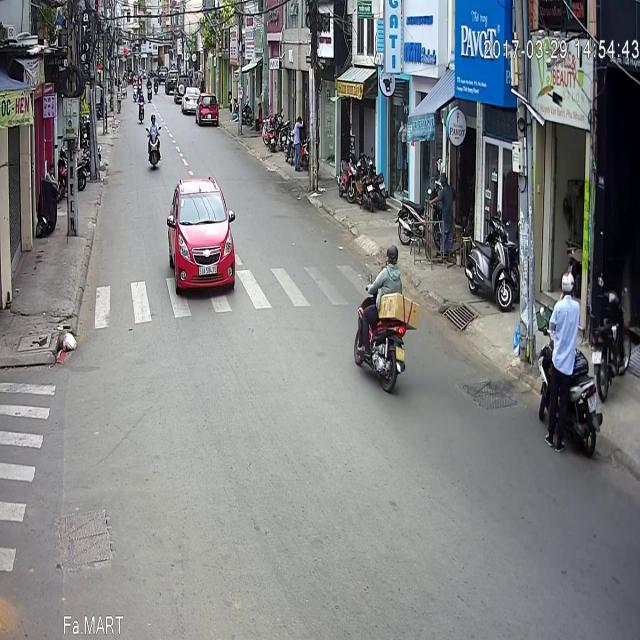car: (165, 116, 235, 238), (194, 34, 218, 68), (182, 27, 202, 58)
motorcycle: (354, 188, 416, 338), (146, 55, 162, 111)
